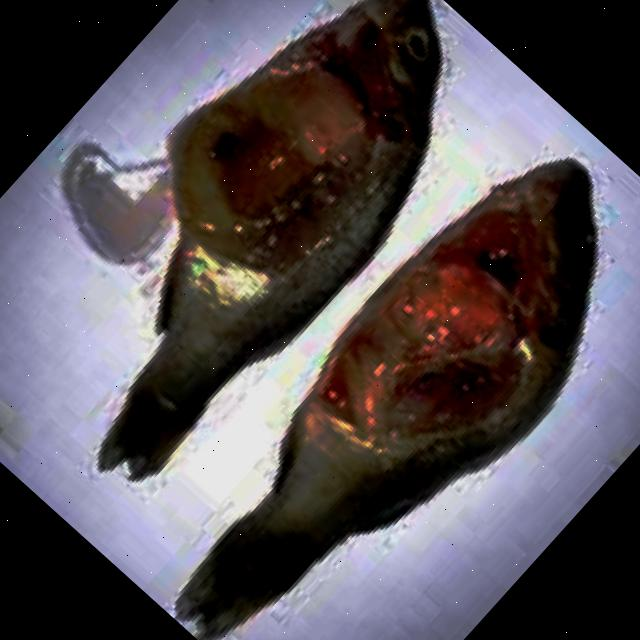Epizootic Ulcerative Syndrome -EUS-: (177, 159, 595, 638), (105, 0, 439, 476)
